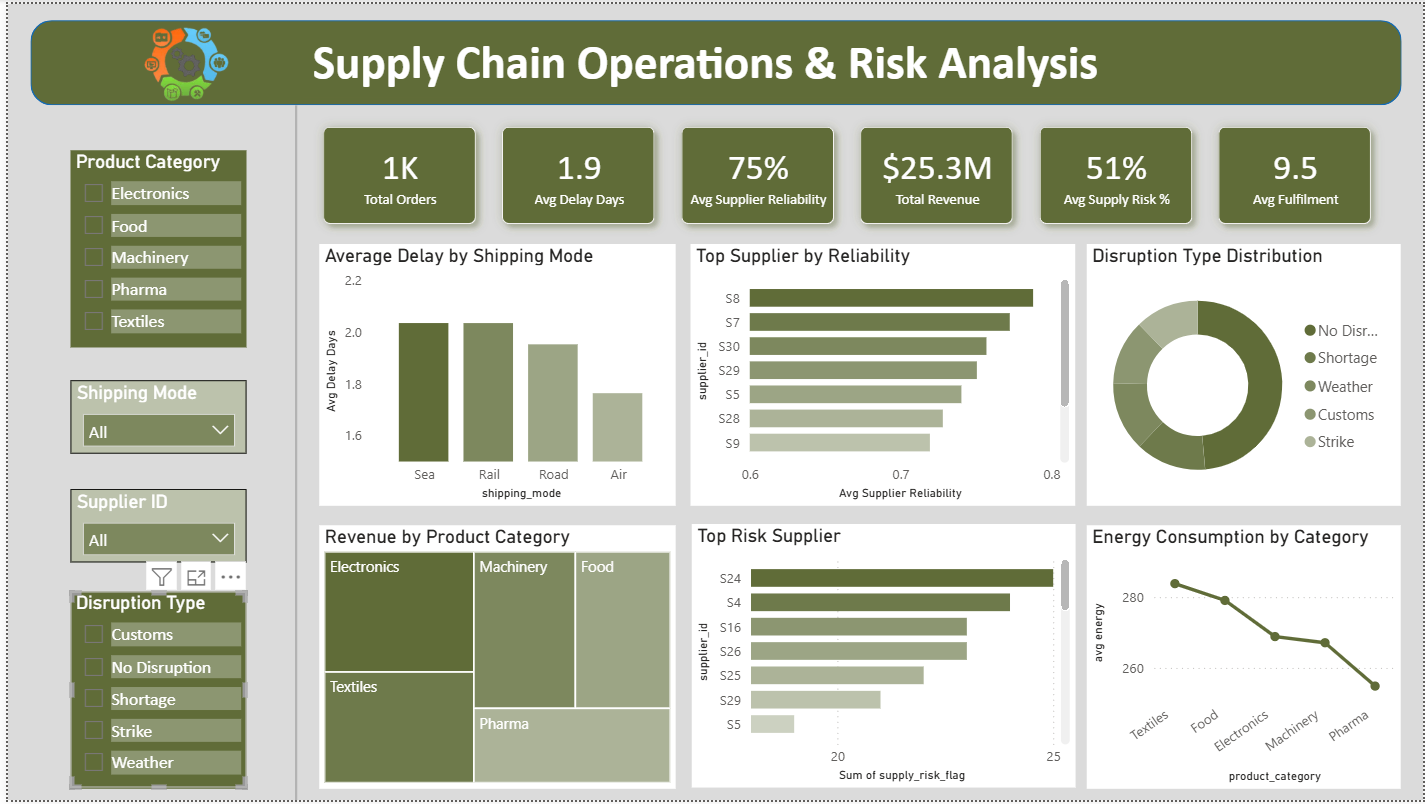

What the dashboard file says about the page in this screenshot:
{"tool":"powerbi","page":{"name":"Page 1","canvas":[1280,720],"ordinal":0},"visuals":[{"type":"shape","box":[20.4,14.7,1240.3,76.9],"z":0},{"type":"textbox","box":[266.8,21.5,728.1,63.3],"z":1000},{"type":"image","box":[115.3,21.5,91.6,66.7],"z":2000},{"type":"shape","box":[254.4,91.6,12.4,628.6],"z":3000},{"type":"cardVisual","fields":{"Data":["supply Chain and risk.Total Orders","supply Chain and risk.Avg Delay Days","supply Chain and risk.Avg Supplier Reliability","supply Chain and risk.Total Revenue","supply Chain and risk.Avg Supply Risk %","supply Chain and risk.Avg Fulfilment"]},"box":[266.7,92.2,984.4,124.6],"z":4000},{"type":"clusteredColumnChart","title":"Average Delay by Shipping Mode","fields":{"Category":["supply Chain and risk.shipping_mode"],"Y":["supply Chain and risk.Avg Delay Days"]},"box":[281.6,216.8,322.7,236.8],"z":5000},{"type":"clusteredBarChart","title":"Top Supplier by Reliability ","fields":{"Category":["supply Chain and risk.supplier_id"],"Y":["supply Chain and risk.Avg Supplier Reliability"]},"box":[616.8,216.8,347.7,236.8],"z":6000},{"type":"donutChart","title":" Disruption Type Distribution","fields":{"Category":["supply Chain and risk.disruption_type"],"Y":["CountNonNull(supply Chain and risk.order_id)"]},"box":[975.7,216.8,284.1,236.8],"z":7000},{"type":"treemap","title":"Revenue by Product Category","fields":{"Group":["supply Chain and risk.product_category"],"Values":["Sum(supply Chain and risk.order_value_usd)"]},"box":[281.6,471,322.7,238],"z":8000},{"type":"barChart","title":"Top Risk Supplier","fields":{"Y":["Sum(supply Chain and risk.supply_risk_flag)"],"Category":["supply Chain and risk.supplier_id"]},"box":[618.3,470.8,347.1,238.4],"z":9000},{"type":"lineChart","title":"Energy Consumption by Category","fields":{"Y":["supply Chain and risk.avg energy"],"Category":["supply Chain and risk.product_category"]},"box":[975.7,471,284.1,238],"z":10000},{"type":"slicer","title":"Product Category","fields":{"Values":["supply Chain and risk.product_category"]},"box":[56.1,132.1,159.5,178.2],"z":10001},{"type":"slicer","title":"Supplier ID","fields":{"Values":["supply Chain and risk.supplier_id"]},"box":[56.1,438.6,159.5,66],"z":10002},{"type":"slicer","title":"Shipping Mode","fields":{"Values":["supply Chain and risk.shipping_mode"]},"box":[56.1,340.2,159.5,66],"z":10003},{"type":"slicer","title":"Disruption Type","fields":{"Values":["supply Chain and risk.disruption_type"]},"box":[56.1,530.8,159.5,178.2],"z":10005}]}

Visuals, with their boxes in screenshot pixels (x1, y1, x2, y2), scaled from the page's 1280x720 canvas onto the 1425x804 screenshot:
shape: box(23, 16, 1404, 102)
textbox: box(297, 24, 1108, 95)
image: box(128, 24, 230, 98)
shape: box(283, 102, 297, 803)
cardVisual - supply Chain and risk.Total Orders x supply Chain and risk.Avg Delay Days: box(297, 103, 1393, 242)
"Average Delay by Shipping Mode" clusteredColumnChart: box(314, 242, 673, 507)
"Top Supplier by Reliability " clusteredBarChart: box(687, 242, 1074, 507)
" Disruption Type Distribution" donutChart: box(1086, 242, 1403, 507)
"Revenue by Product Category" treemap: box(314, 526, 673, 792)
"Top Risk Supplier" barChart: box(688, 526, 1075, 792)
"Energy Consumption by Category" lineChart: box(1086, 526, 1403, 792)
"Product Category" slicer: box(62, 148, 240, 347)
"Supplier ID" slicer: box(62, 490, 240, 563)
"Shipping Mode" slicer: box(62, 380, 240, 454)
"Disruption Type" slicer: box(62, 593, 240, 792)
